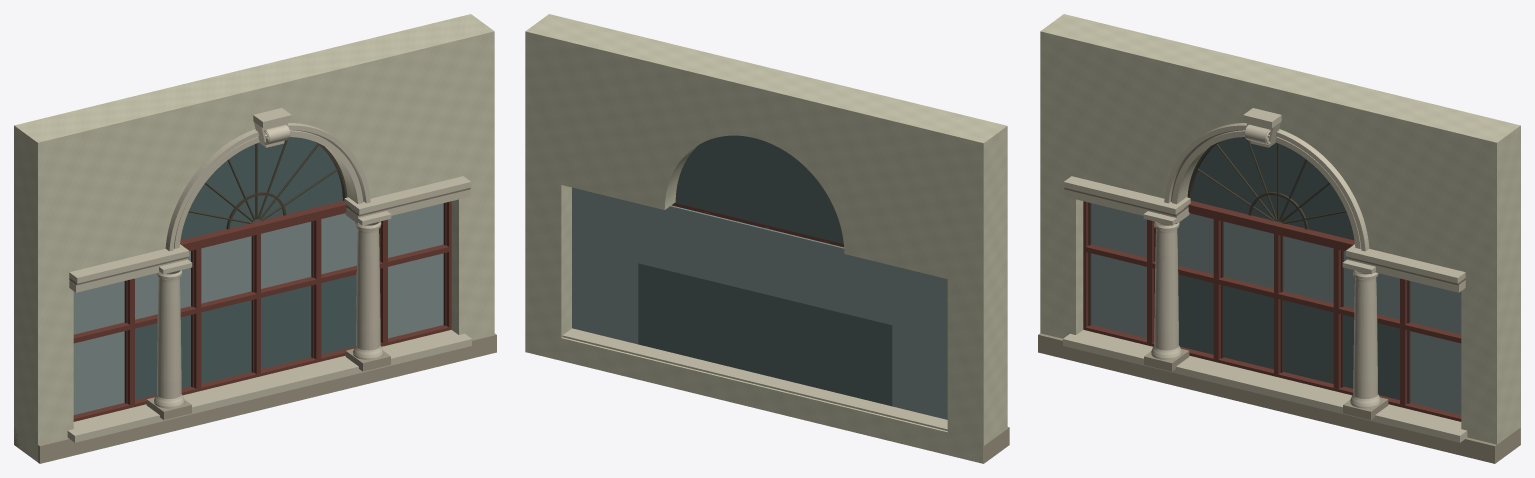
Rendered from xuhui-du-zhongyuan-residence-serlian-window-raw.glb.
3 views of the same model, side by side, from view 1: azimuth 30°, elevation 25°; view 2: azimuth 150°, elevation 25°; view 3: azimuth 330°, elevation 25° (orthographic).
Visible parts, largest first — view 1: 杜重远寓所南花园西端帕拉第奥式窗; view 2: 杜重远寓所南花园西端帕拉第奥式窗; view 3: 杜重远寓所南花园西端帕拉第奥式窗.
Boxes of the visible parts, x1,y1,x2,y2 form: 杜重远寓所南花园西端帕拉第奥式窗: (14,14,496,463); 杜重远寓所南花园西端帕拉第奥式窗: (525,14,1009,463); 杜重远寓所南花园西端帕拉第奥式窗: (1038,14,1520,463).
Bounding box in the file's own units: 5.67 × 3.79 × 0.7984.
9 materials, 1 textured.
